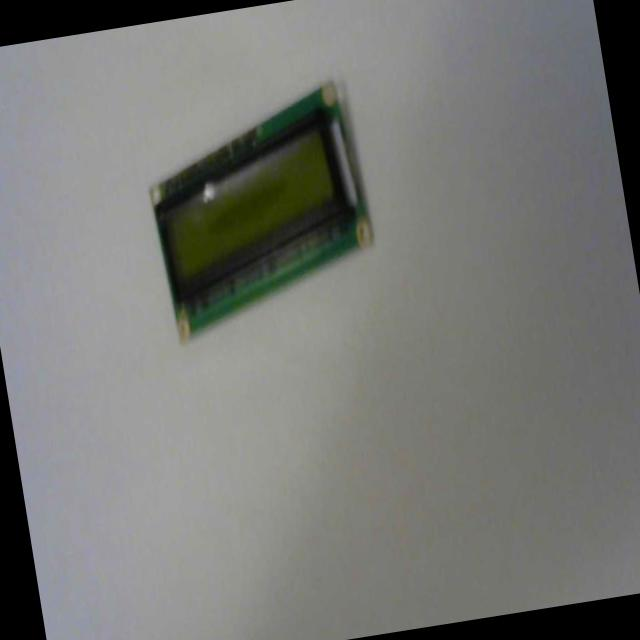lcd: (134, 74, 387, 346)
